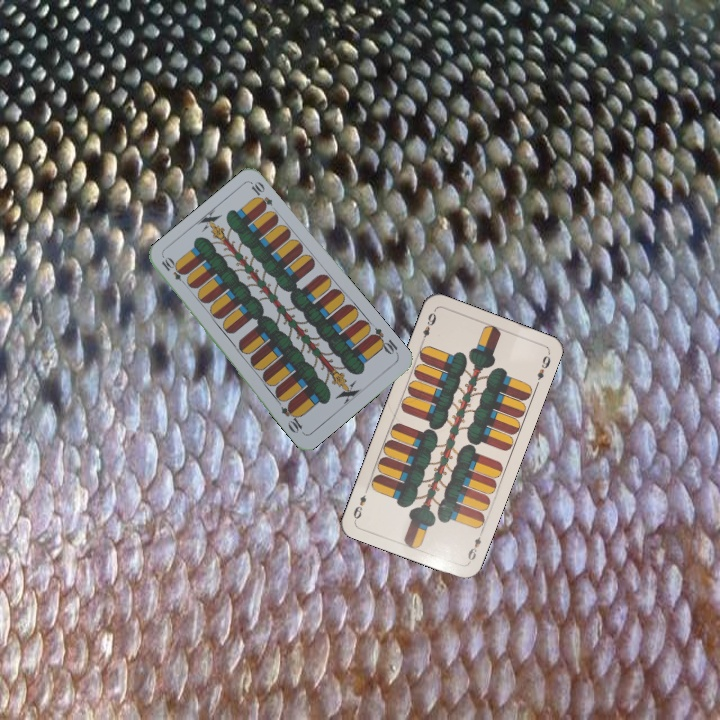E10: (157, 254, 191, 289), (366, 324, 401, 358)
E9: (417, 307, 439, 346), (464, 527, 486, 565)
